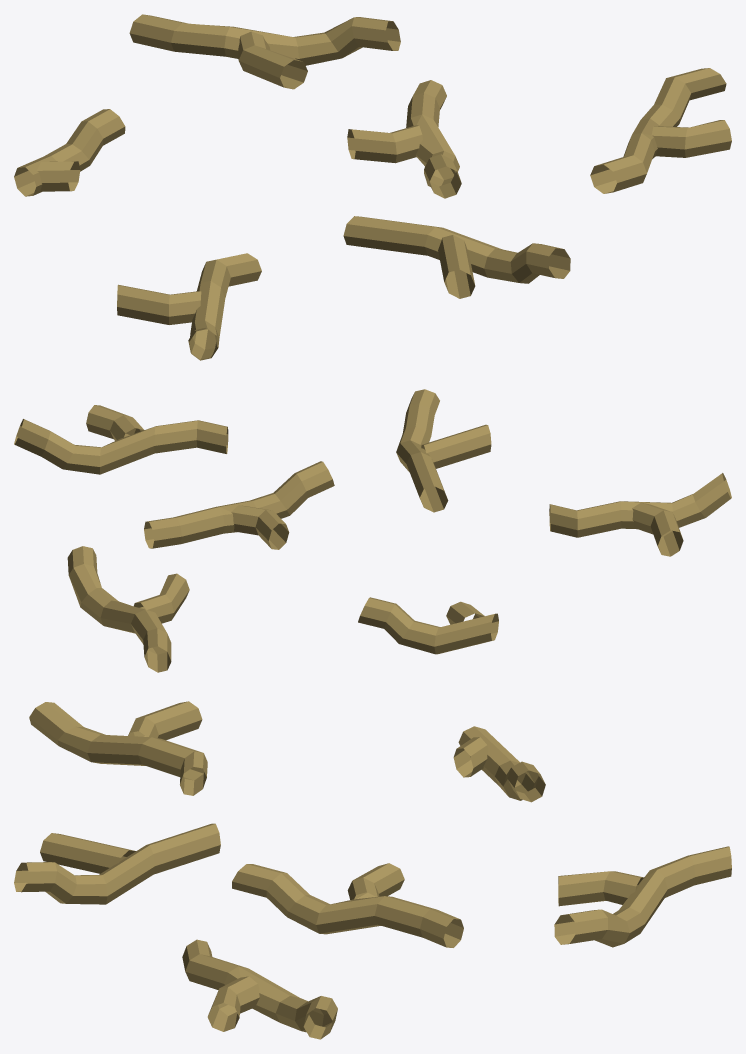
The model's file is 3D_ScatteredSticks-B.fbx.
3 views of the same model, one above another, from view 1: azimuth 30°, elevation 25°; view 2: azimuth 150°, elevation 25°; view 3: azimuth 270°, elevation 25° (orthographic). The views are drawn at different scales.
Visible parts, largest first — view 1: Circle.001; view 2: Circle.001; view 3: Circle.001.
Boxes of the visible parts, left/top/right/bottom form: Circle.001: left=14, top=14, right=731, bottom=360; Circle.001: left=14, top=389, right=731, bottom=672; Circle.001: left=14, top=701, right=731, bottom=1039.
Size of the model in its own units: 194 by 14.44 by 180.
1 material, 1 textured.
